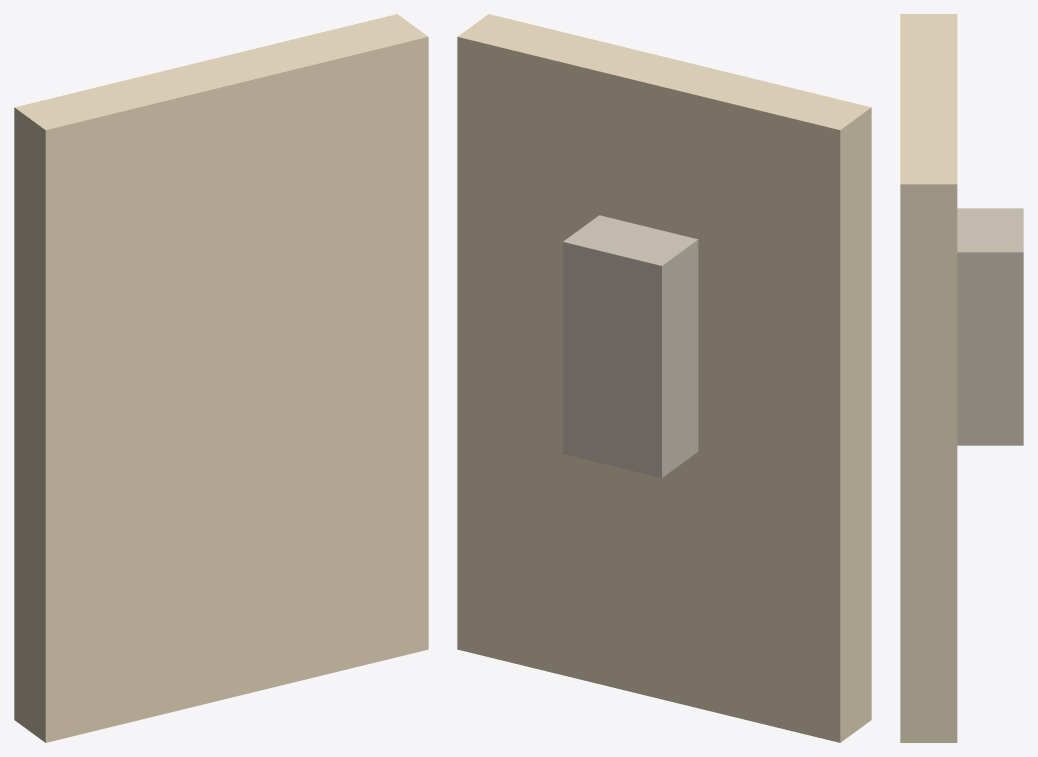
The model's file is switch_town_music_room.glb.
3 renders of one model, left to right at view 1: azimuth 30°, elevation 25°; view 2: azimuth 150°, elevation 25°; view 3: azimuth 270°, elevation 25°, orthographic. The views are drawn at different scales.
Visible parts, largest first — view 1: Box1; view 2: Box1, Box2; view 3: Box1, Box2.
Boxes of the visible parts, x1=… form: Box1: x1=14, y1=14, x2=428, y2=742; Box1: x1=457, y1=14, x2=871, y2=742; Box2: x1=563, y1=215, x2=698, y2=477; Box1: x1=900, y1=14, x2=957, y2=742; Box2: x1=957, y1=208, x2=1023, y2=445.
Bounding box in the file's own units: 0.085 × 0.13 × 0.026.
